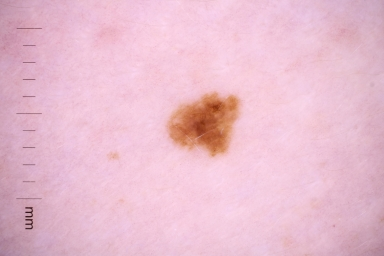nevus: (168, 95, 240, 155)
